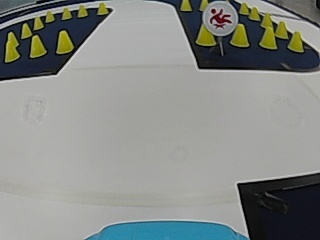cone: (230, 24, 249, 48), (55, 29, 73, 54), (4, 33, 19, 63), (259, 26, 277, 50), (195, 24, 214, 46), (287, 31, 303, 53), (29, 36, 45, 57), (275, 20, 287, 38), (248, 5, 259, 21), (21, 22, 31, 39), (77, 4, 88, 18), (61, 6, 72, 20), (238, 1, 249, 15), (33, 16, 43, 30), (97, 2, 107, 15), (45, 10, 55, 23), (180, 0, 191, 11)
tumble: (207, 4, 235, 31)
